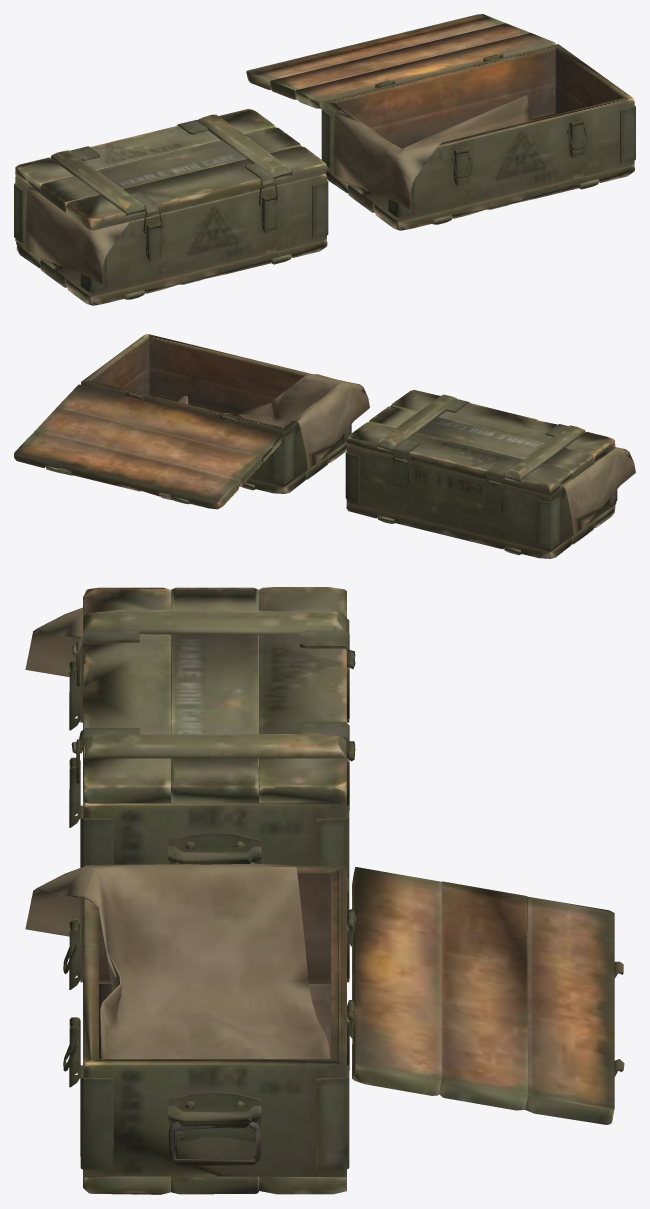
File: old_military_crate.glb
3 views of the same model, one above another, from view 1: azimuth 30°, elevation 25°; view 2: azimuth 150°, elevation 25°; view 3: azimuth 270°, elevation 25° (orthographic). The views are drawn at different scales.
Parts seen in each view (by area): view 1: old_military_crate_b, old_military_crate_lid_a, old_military_crate_a, old_military_crate_lid_b, old_military_crate_cloth_b, old_military_crate_cloth_a, old_military_crate_latch_a, old_military_crate_latch_b; view 2: old_military_crate_lid_b, old_military_crate_lid_a, old_military_crate_a, old_military_crate_b, old_military_crate_cloth_b, old_military_crate_cloth_a; view 3: old_military_crate_lid_a, old_military_crate_lid_b, old_military_crate_b, old_military_crate_cloth_b, old_military_crate_a, old_military_crate_cloth_a, old_military_crate_latch_b, old_military_crate_latch_a.
Part boxes in pixels (x1,y1,x2,y2): old_military_crate_b: (321,44,635,230); old_military_crate_lid_a: (15,109,327,230); old_military_crate_a: (14,173,328,305); old_military_crate_lid_b: (246,14,555,108); old_military_crate_cloth_b: (333,95,533,209); old_military_crate_cloth_a: (26,187,129,284); old_military_crate_latch_a: (146,194,276,261); old_military_crate_latch_b: (453,119,584,186); old_military_crate_lid_b: (14,384,282,509); old_military_crate_lid_a: (346,389,615,495); old_military_crate_a: (345,445,617,558); old_military_crate_b: (81,334,351,493); old_military_crate_cloth_b: (176,374,369,470); old_military_crate_cloth_a: (562,447,635,535); old_military_crate_lid_a: (71,587,355,803); old_military_crate_lid_b: (347,867,624,1124); old_military_crate_b: (80,865,355,1194); old_military_crate_cloth_b: (25,863,329,1058); old_military_crate_a: (80,619,355,879); old_military_crate_cloth_a: (25,607,82,676); old_military_crate_latch_b: (69,919,80,1087); old_military_crate_latch_a: (69,660,80,827).
Size of the model in its own units: 1.81 by 0.301 by 0.9757.
1 material, 1 textured.
